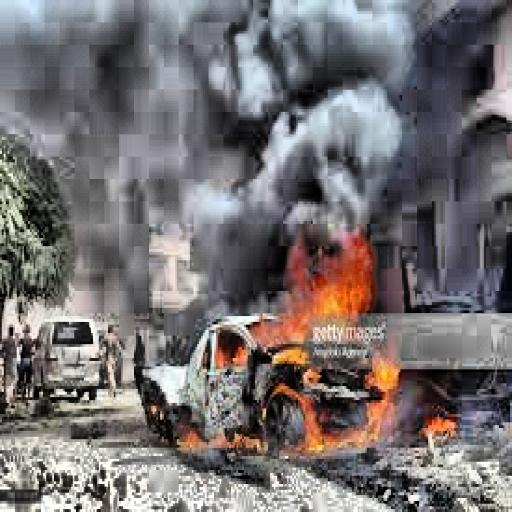fire: (201, 246, 400, 459)
